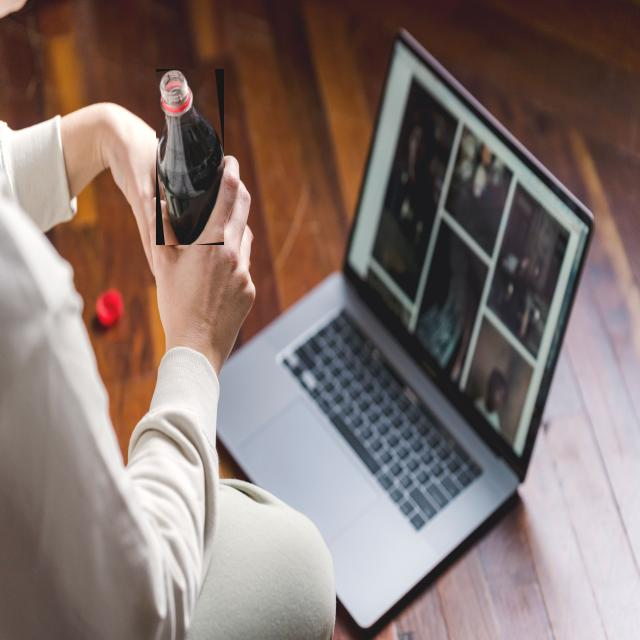Bottle: (156, 70, 222, 244)
